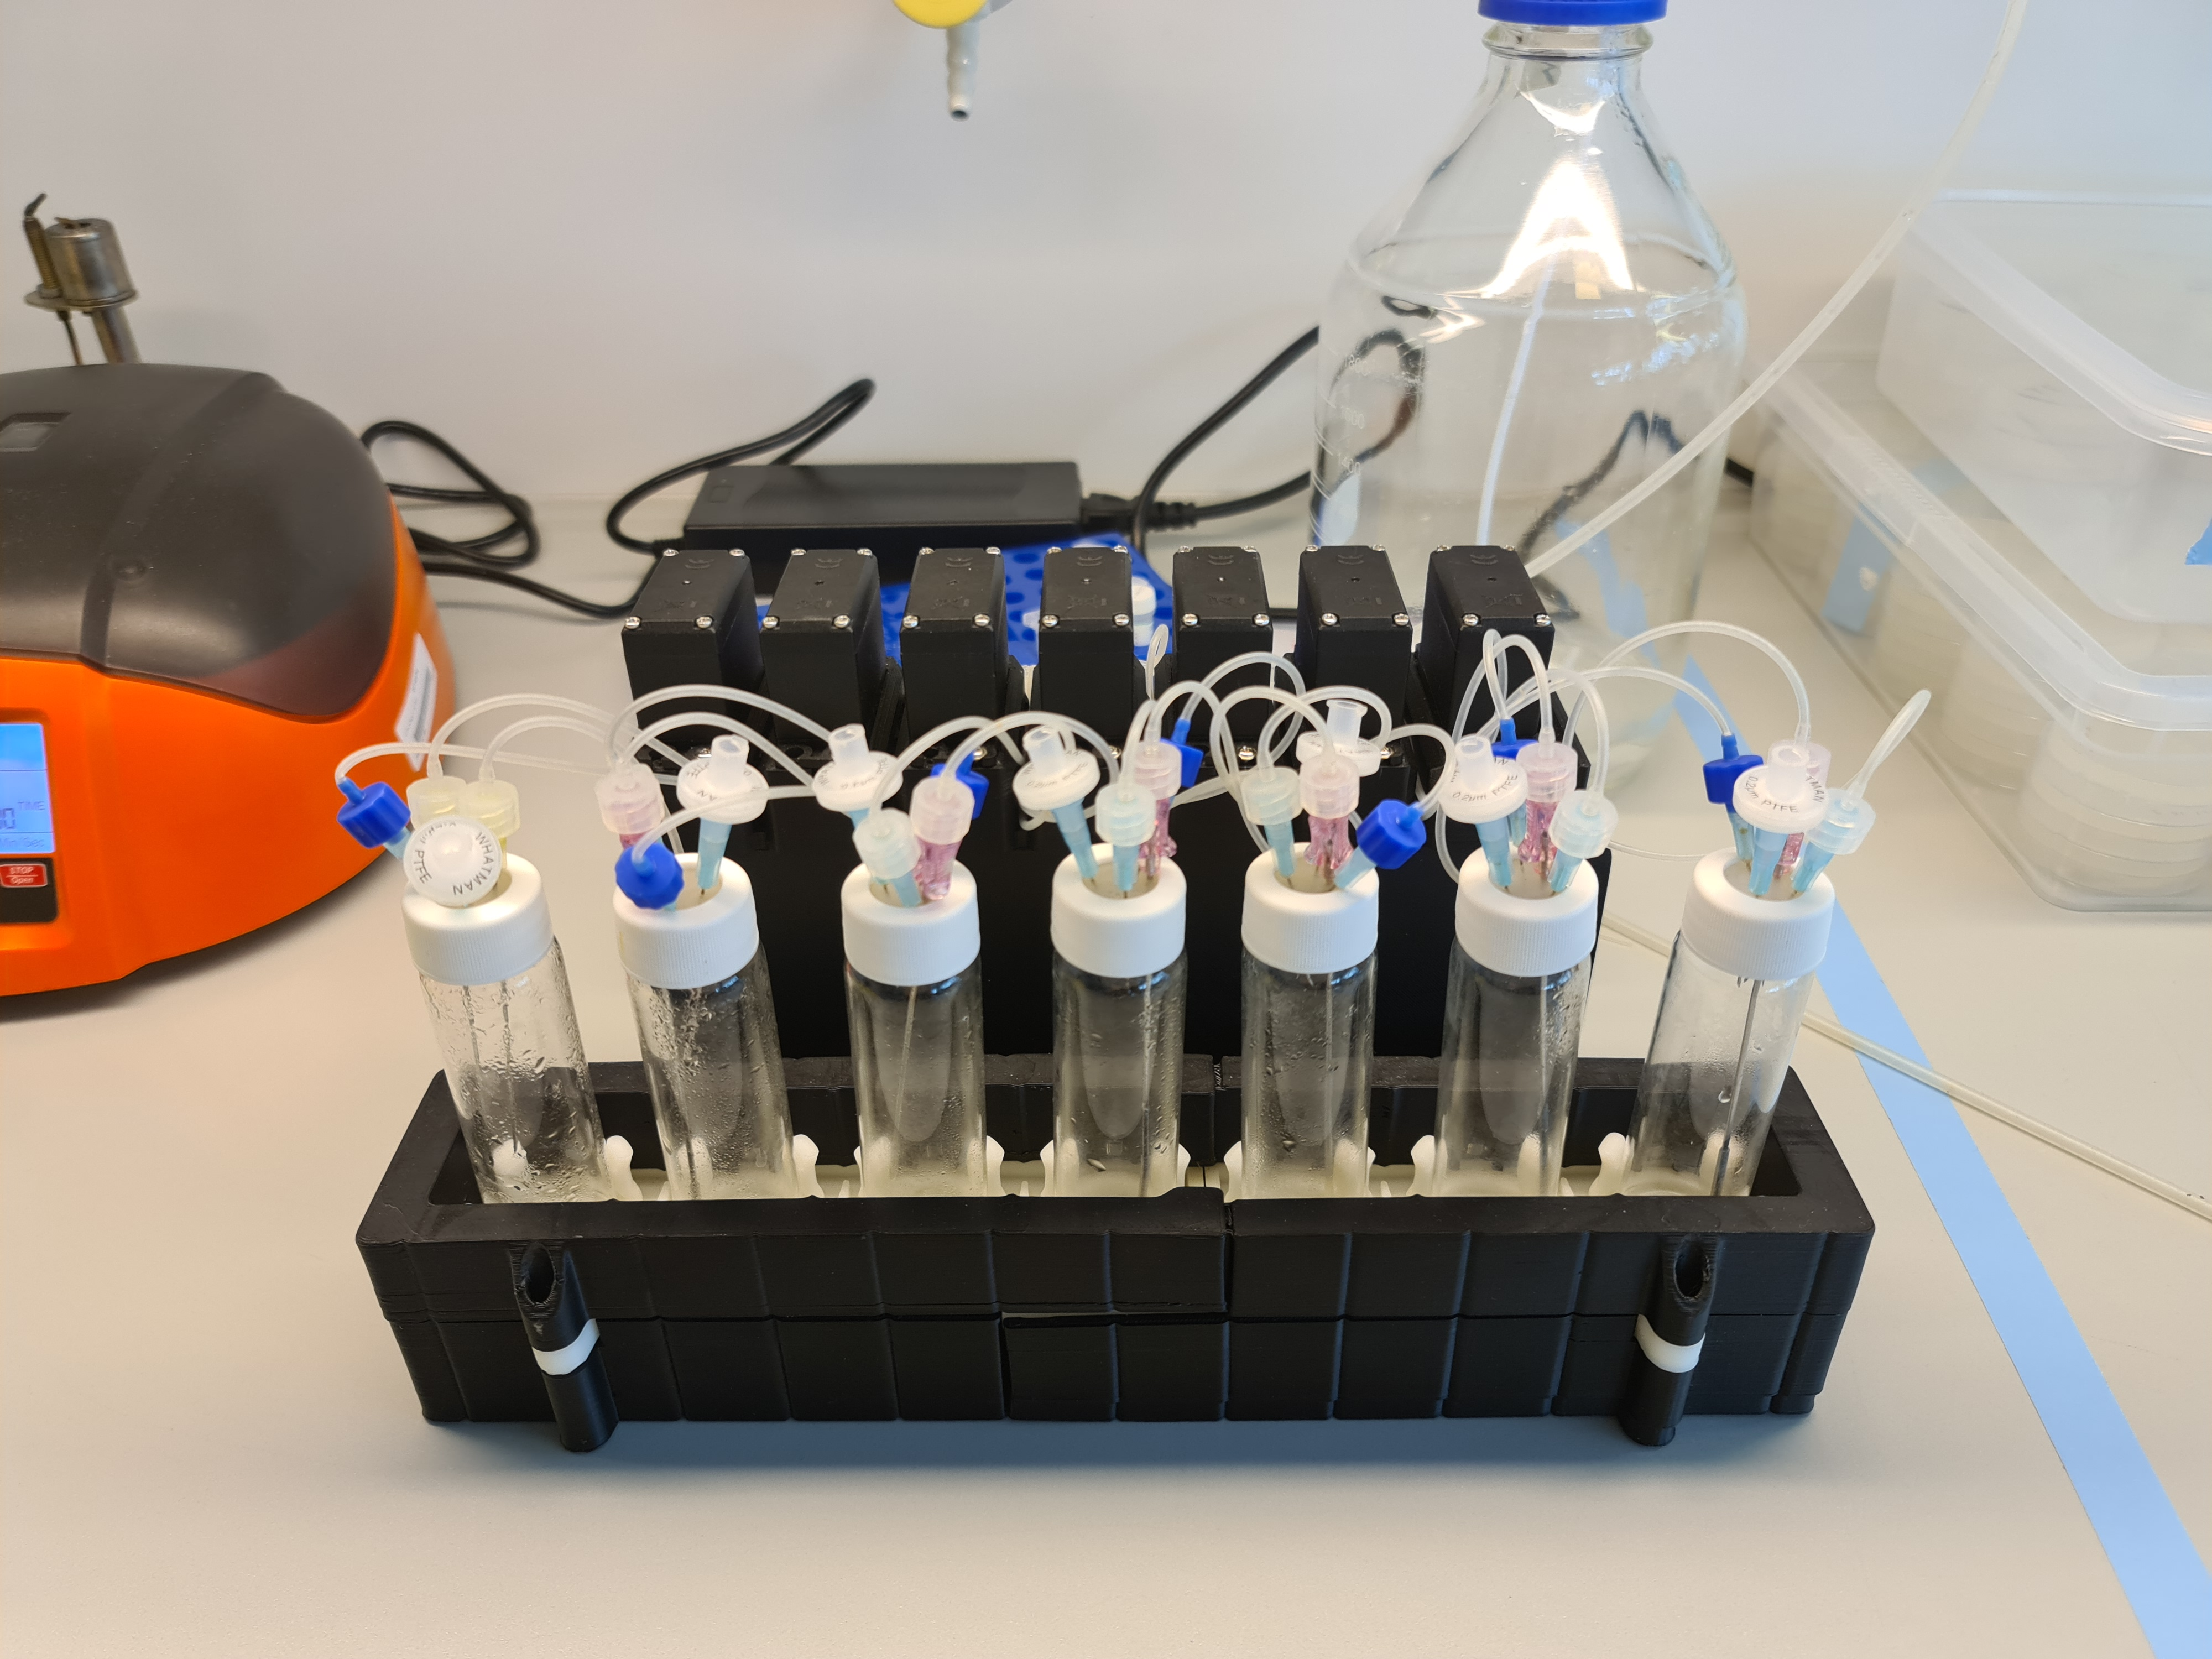vial: (1620, 833, 1841, 1204), (399, 845, 620, 1201), (613, 849, 805, 1202), (1425, 836, 1602, 1202), (838, 847, 991, 1201), (1042, 843, 1190, 1202), (1240, 838, 1385, 1204)
